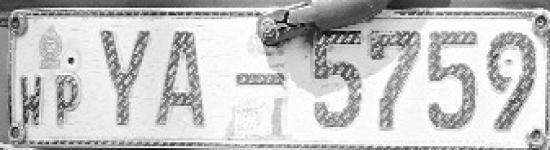-: (234, 66, 289, 92)
5: (427, 27, 483, 134), (310, 28, 366, 131)
7: (368, 28, 426, 136)
9: (485, 27, 544, 136)
A: (154, 30, 212, 124)
P: (57, 71, 80, 128)
W: (19, 73, 43, 127)
Y: (102, 27, 150, 123)
